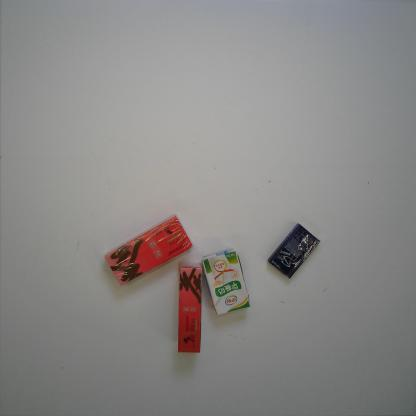Gum: (268, 223, 321, 279)
Instant Drink: (104, 213, 193, 287), (178, 261, 202, 353)
Milk: (202, 249, 250, 316)
